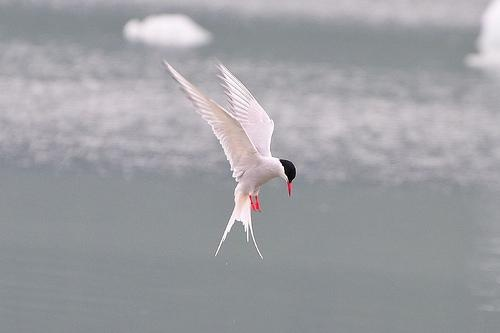bird: (162, 53, 298, 261)
